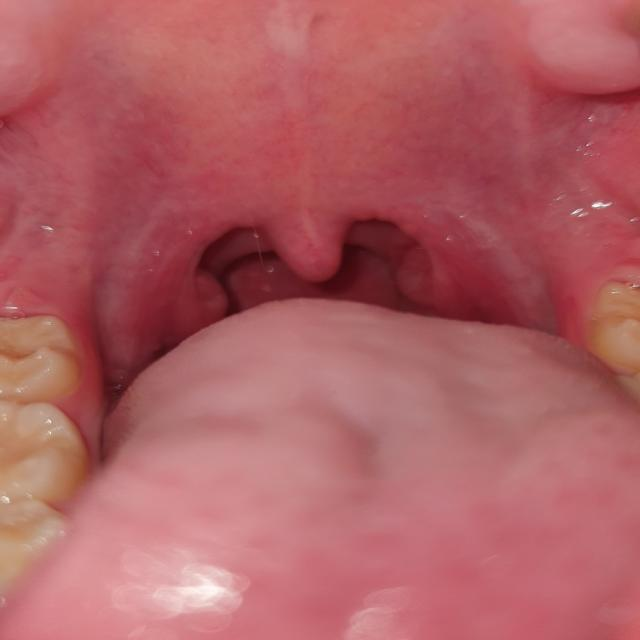Non Pharyngitis: (36, 58, 632, 377)
